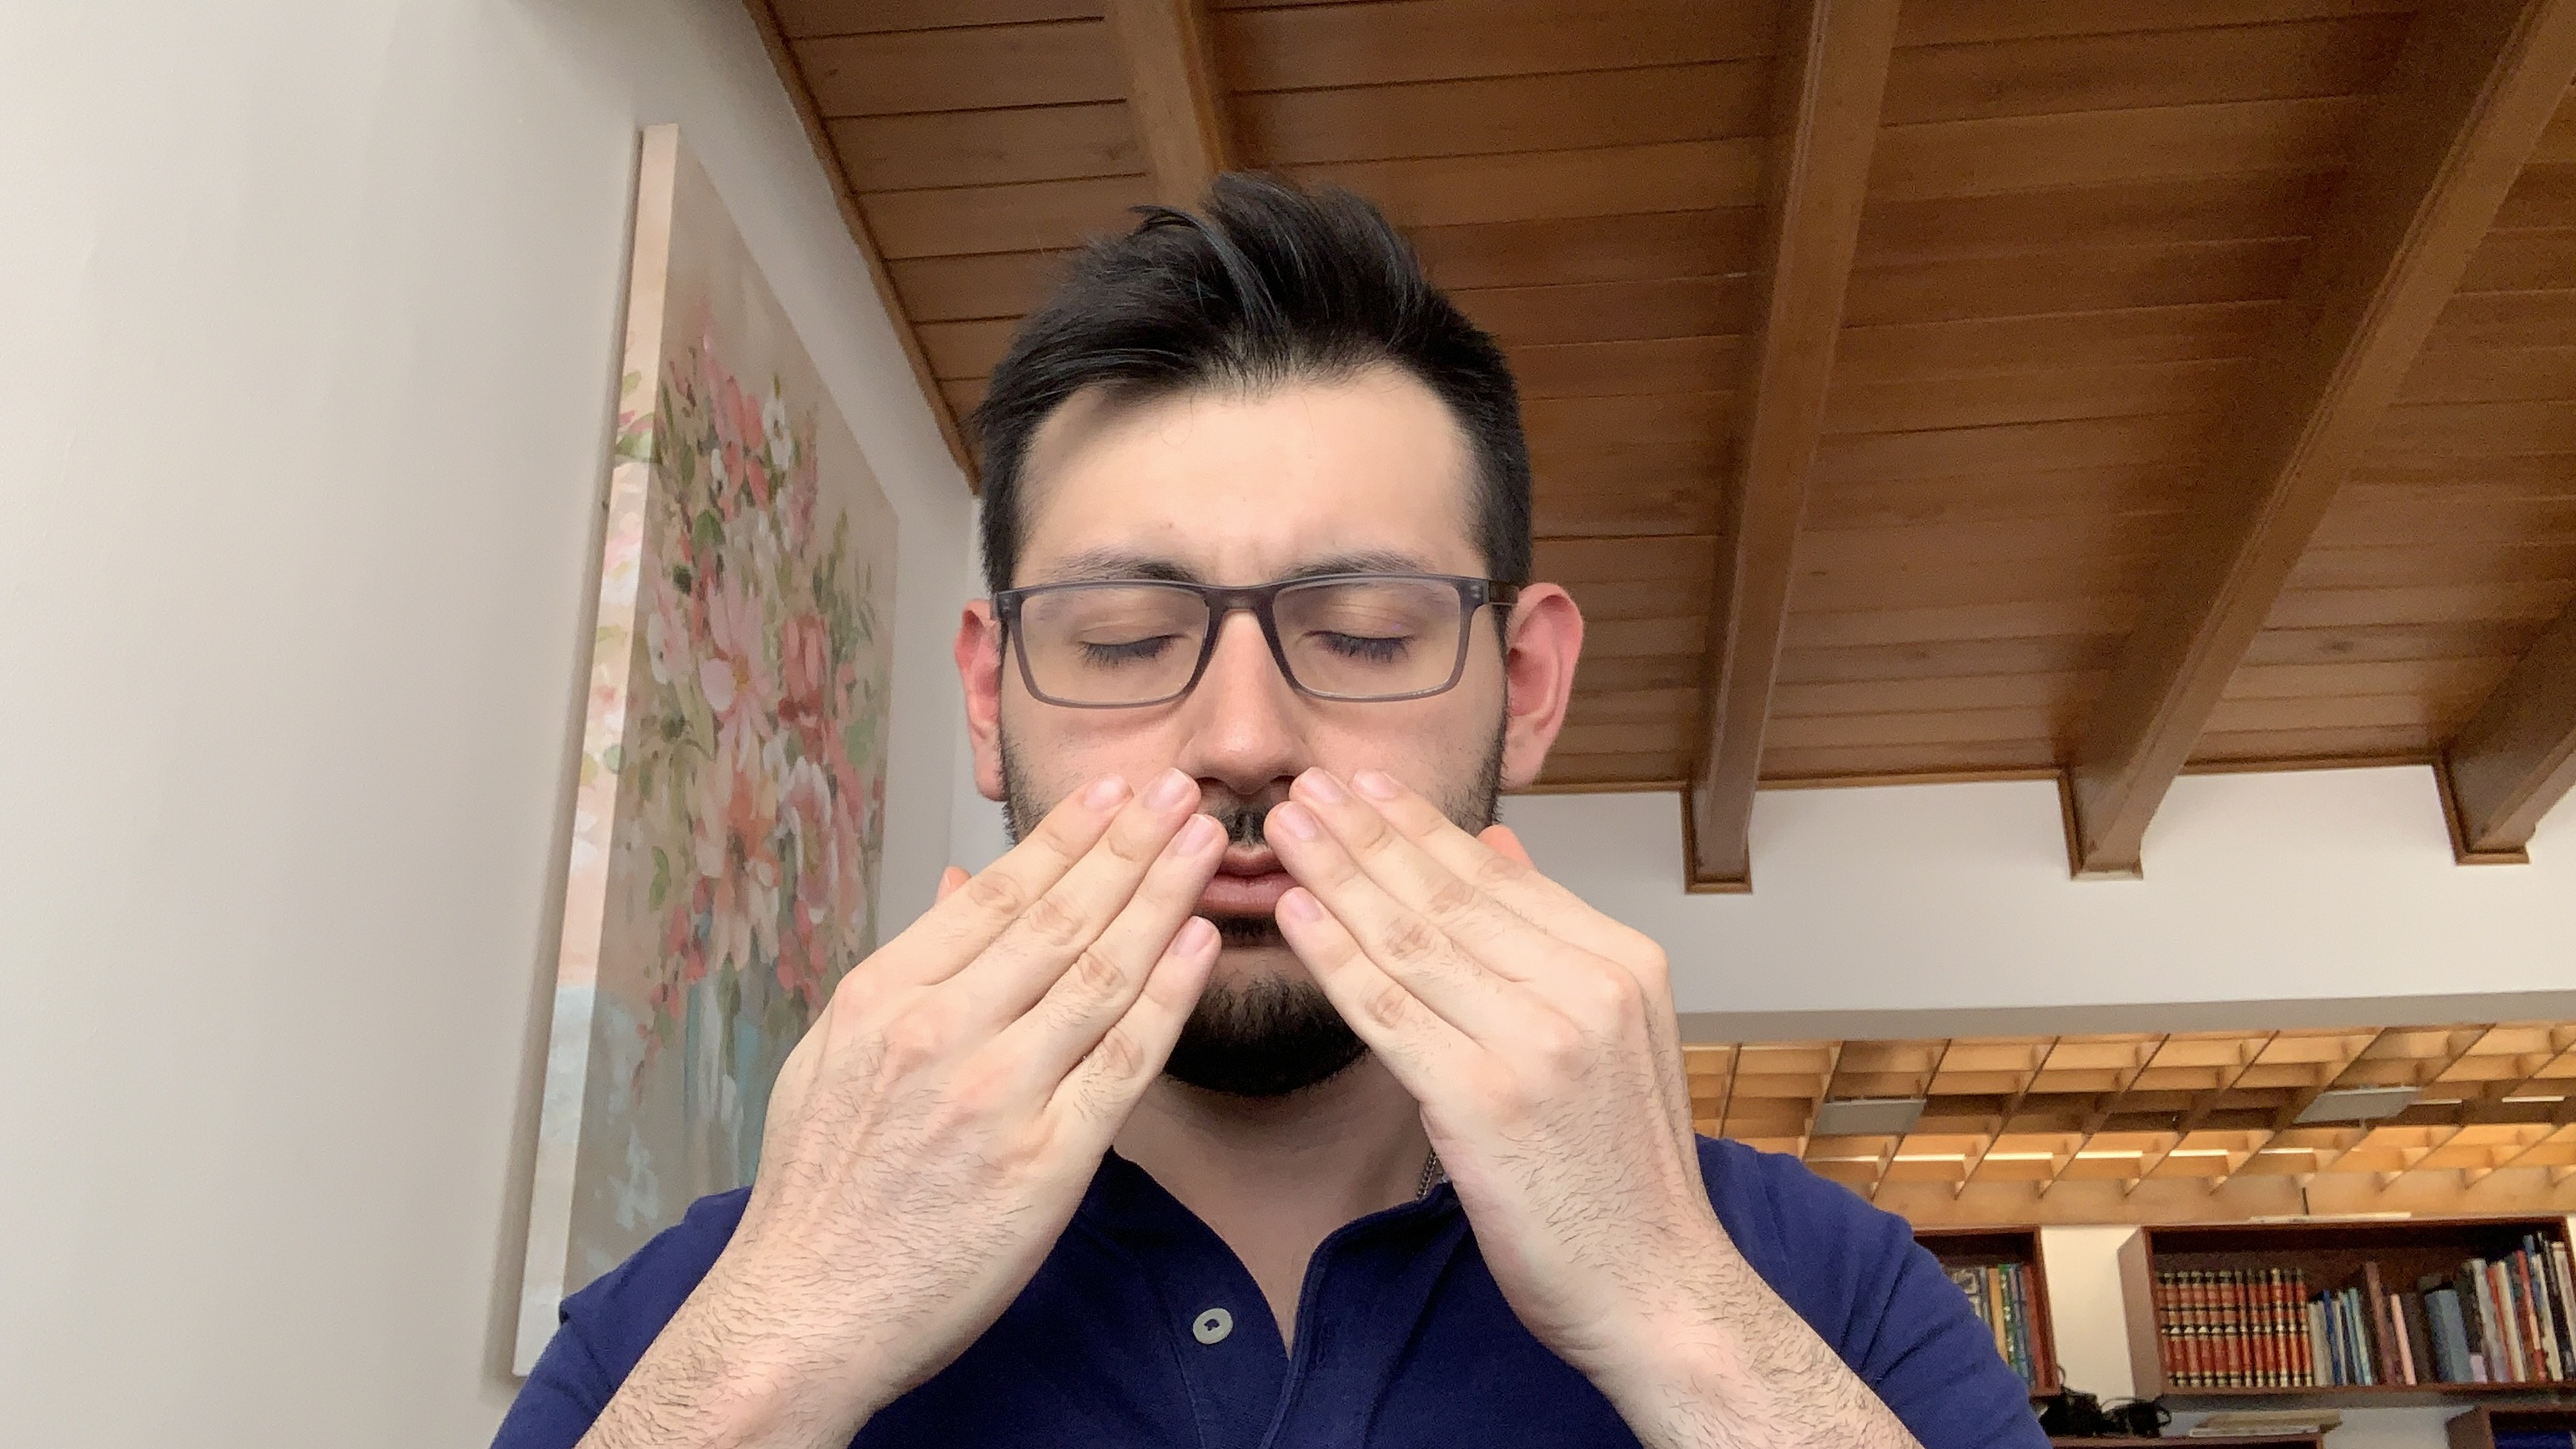Thank You: (743, 761, 1805, 1362)
